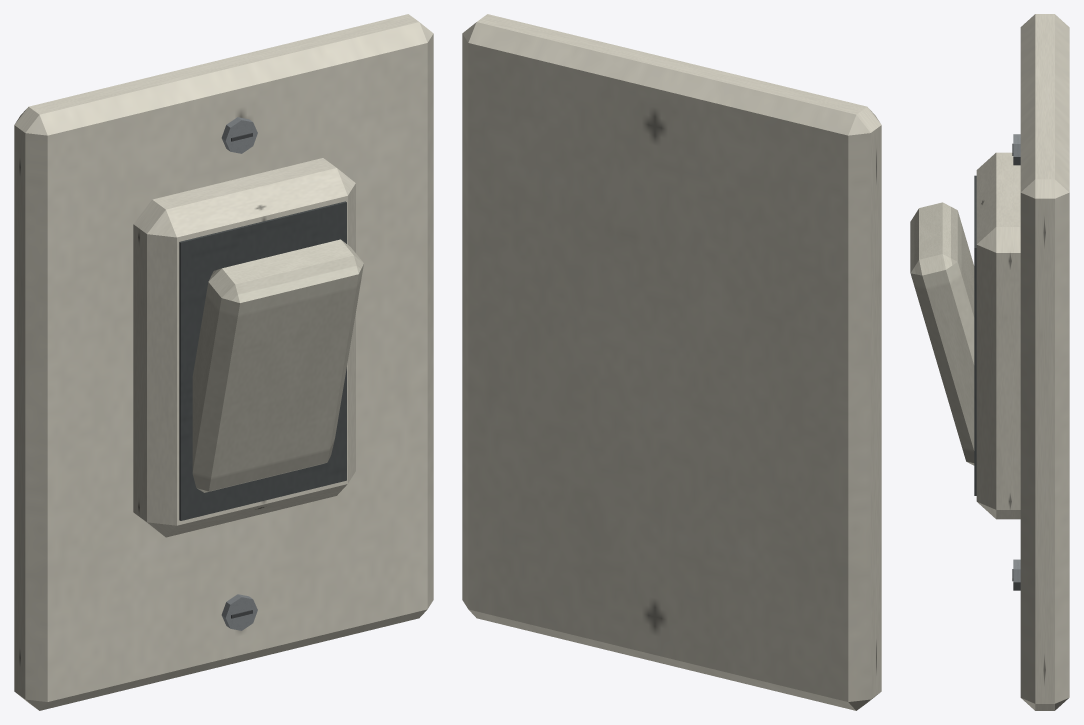
Rendered from wall_switch.glb.
3 views of the same model, side by side, from view 1: azimuth 30°, elevation 25°; view 2: azimuth 150°, elevation 25°; view 3: azimuth 270°, elevation 25° (orthographic). The views are drawn at different scales.
Parts seen in each view (by area): view 1: switch, lever; view 2: switch; view 3: switch, lever.
Part boxes in pixels (x1,y1,x2,y2): switch: (14,14,433,710); lever: (192,239,363,492); switch: (462,14,881,710); switch: (974,14,1069,710); lever: (910,202,974,465).
Bounding box in the file's own units: 0.086 × 0.12 × 0.0325.
1 material, 1 textured.
